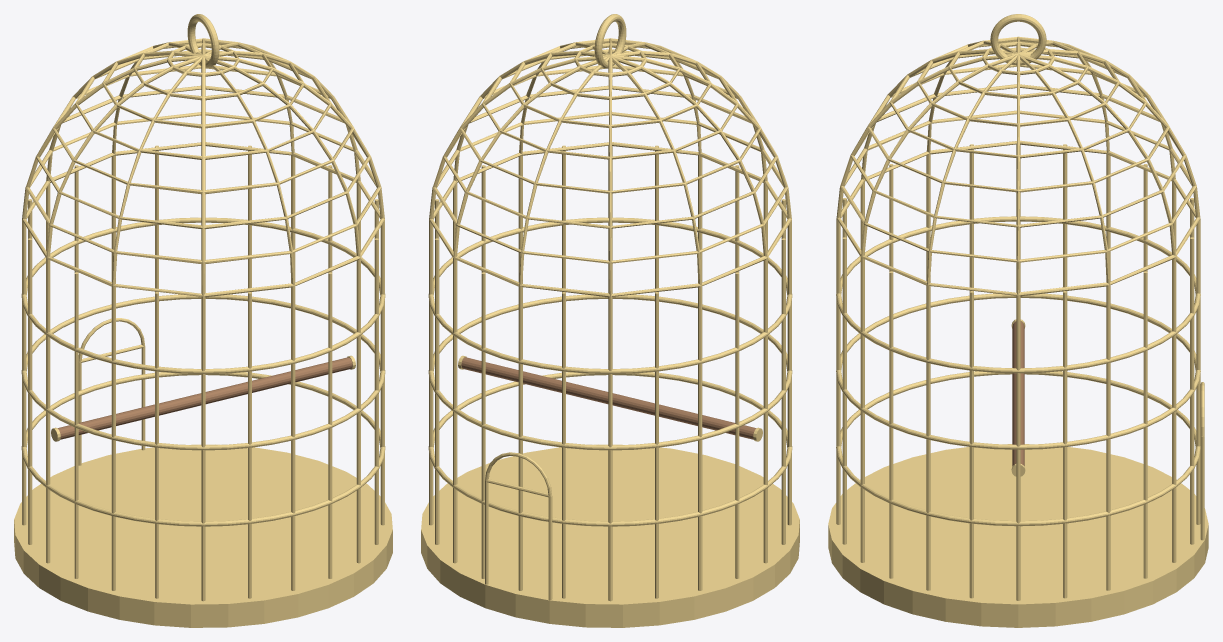
File: birdcage2.glb
3 renders of one model, left to right at view 1: azimuth 30°, elevation 25°; view 2: azimuth 150°, elevation 25°; view 3: azimuth 270°, elevation 25°, orthographic.
Visible parts, largest first — view 1: Cage_Base, Cage_Bars, Cage_Roof, Cage_Perch, Cage_Door; view 2: Cage_Base, Cage_Bars, Cage_Roof, Cage_Perch, Cage_Door; view 3: Cage_Base, Cage_Bars, Cage_Roof, Cage_Perch, Cage_Door.
Boxes of the visible parts, <box> form: Cage_Base: <box>14,444,392,627</box>; Cage_Bars: <box>21,145,385,601</box>; Cage_Roof: <box>22,14,384,297</box>; Cage_Perch: <box>51,355,355,441</box>; Cage_Door: <box>78,318,145,465</box>; Cage_Base: <box>421,444,799,627</box>; Cage_Bars: <box>428,145,792,601</box>; Cage_Roof: <box>429,14,791,297</box>; Cage_Perch: <box>458,355,762,441</box>; Cage_Door: <box>485,452,552,600</box>; Cage_Base: <box>828,444,1208,627</box>; Cage_Bars: <box>836,144,1200,600</box>; Cage_Roof: <box>836,14,1200,296</box>; Cage_Perch: <box>1011,319,1025,476</box>; Cage_Door: <box>1200,382,1204,540</box>.
Size of the model in its own units: 4.4 by 6.8 by 4.4.
